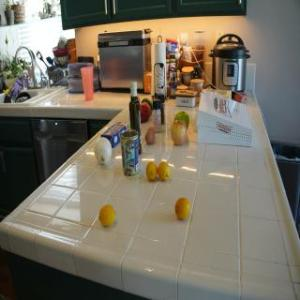bell_pepper: (138, 102, 150, 122), (141, 98, 151, 112)
egg: (145, 132, 155, 146), (146, 128, 156, 138)
onion: (94, 137, 112, 165)
